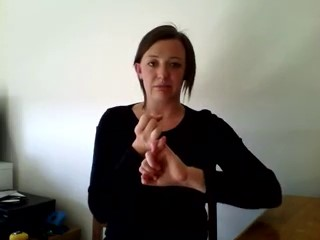S: (131, 112, 188, 193)
